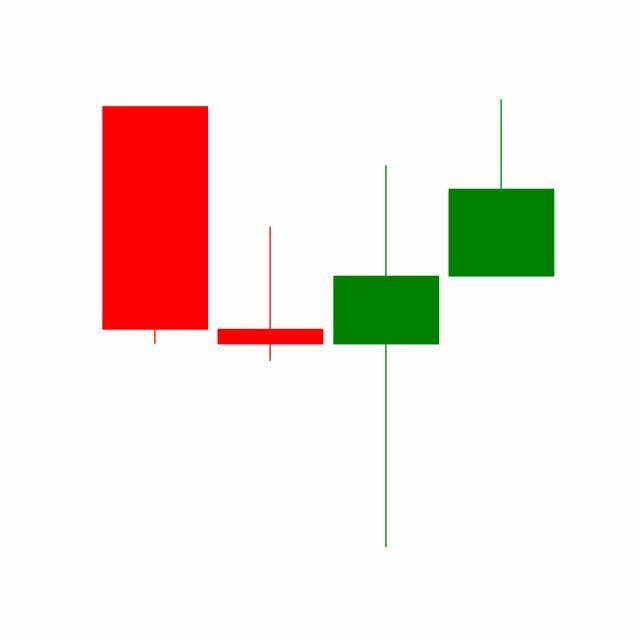Spinning Top: (329, 161, 445, 552)
